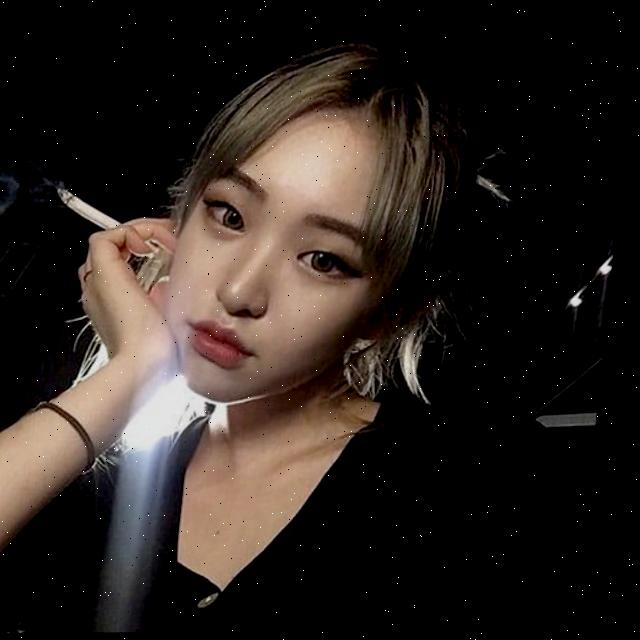cigarette: (59, 189, 129, 232)
